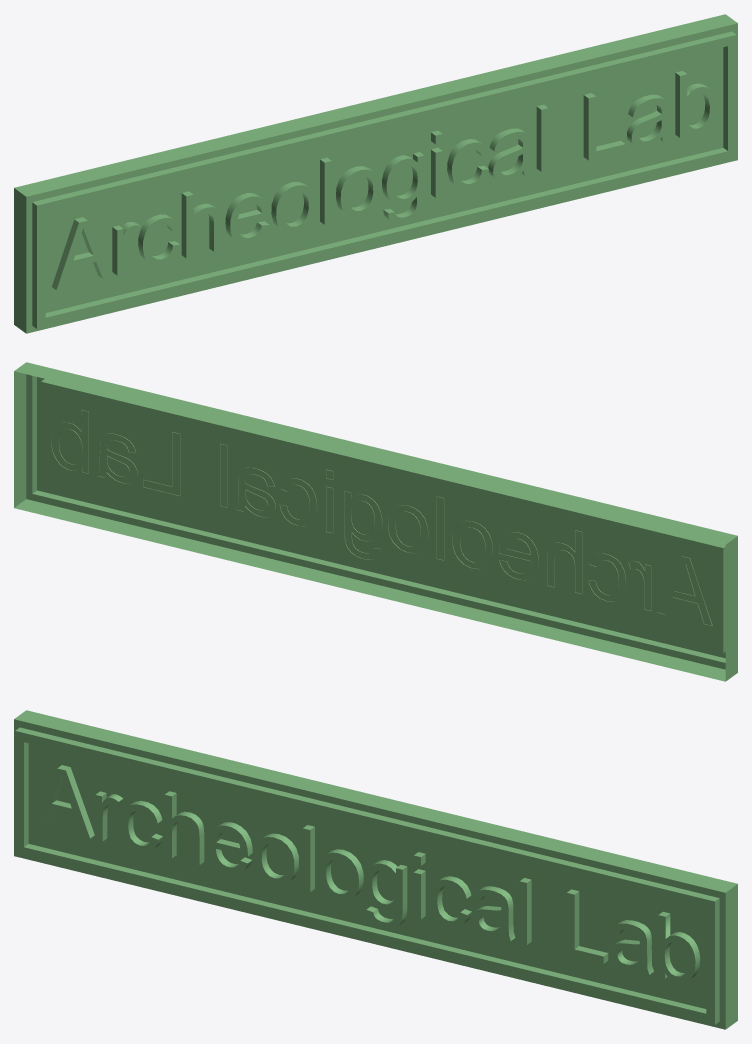
File: LabPlate.fbx
3 renders of one model, top to bottom at view 1: azimuth 30°, elevation 25°; view 2: azimuth 150°, elevation 25°; view 3: azimuth 330°, elevation 25°, orthographic.
Visible parts, largest first — view 1: LabPlate; view 2: LabPlate; view 3: LabPlate.
Boxes of the visible parts, x1=… form: LabPlate: x1=14, y1=14, x2=737, y2=333; LabPlate: x1=14, y1=362, x2=737, y2=681; LabPlate: x1=14, y1=710, x2=737, y2=1029.
Bounding box in the file's own units: 63.39 × 2.64 × 11.65.
